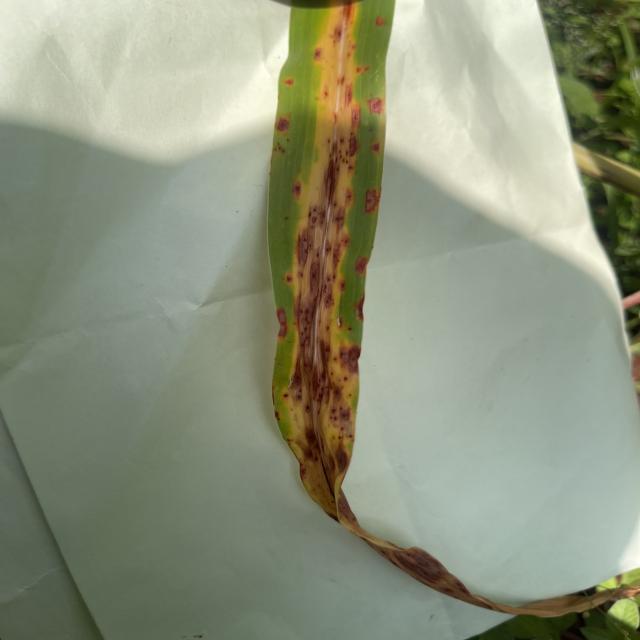millet_rust: (256, 0, 640, 639)
